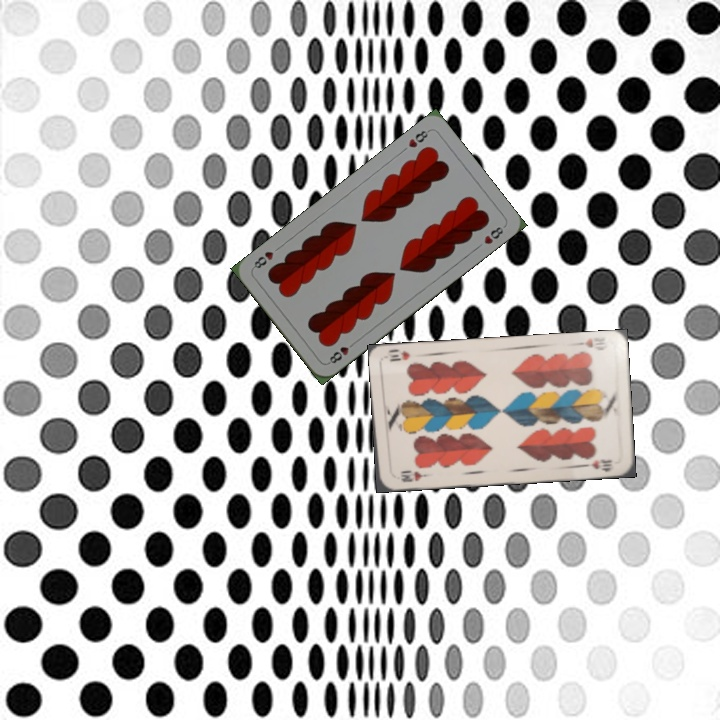H10: (571, 334, 609, 353), (396, 466, 431, 484)
H8: (324, 337, 358, 366), (404, 126, 433, 150)
